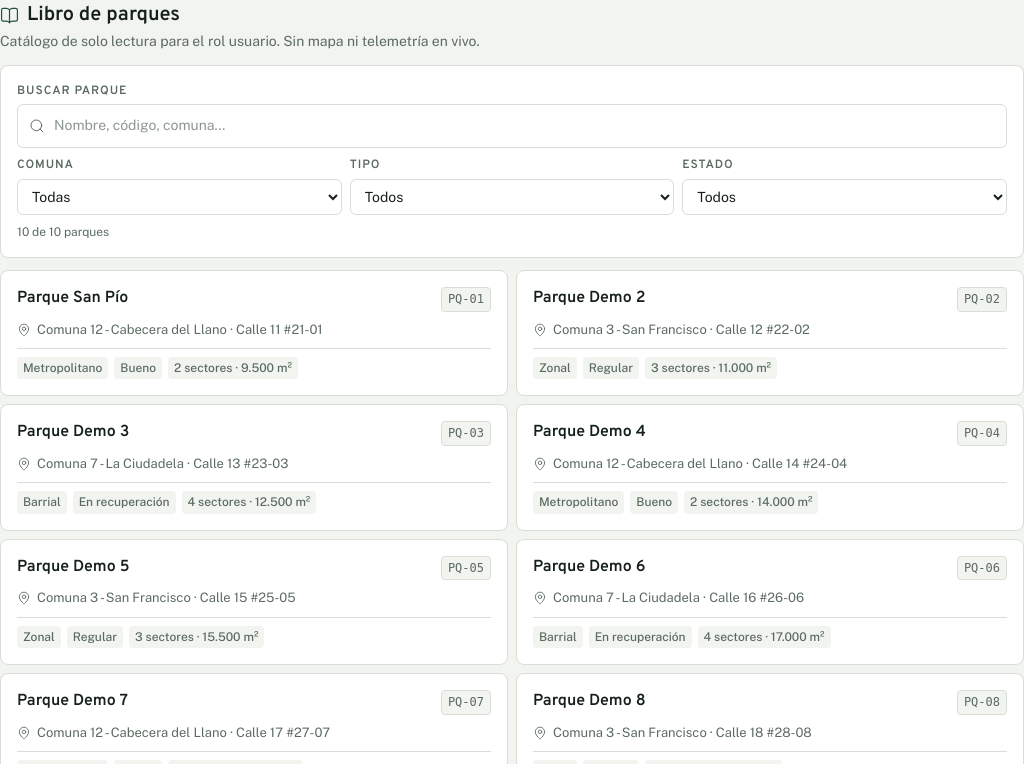
libro de parques › filtra por búsqueda y muestra empty
The width and height of the screenshot is (1024, 764).
Expected: the text "10 de 10 parques" is shown, left=17, top=225, right=109, bottom=239
Type "zzz-sin-parque" into the search field labelled "Buscar parque" at (512,126), box left=17, top=104, right=1007, bottom=148
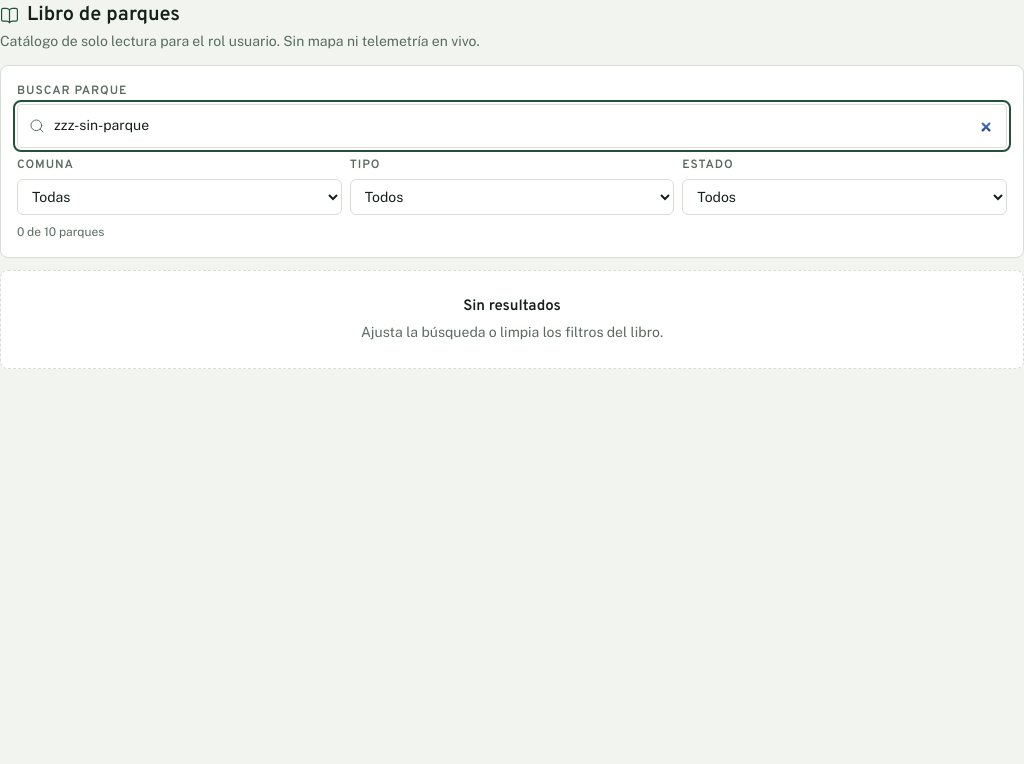
Now the text "Sin resultados" is shown, box left=463, top=297, right=561, bottom=316
